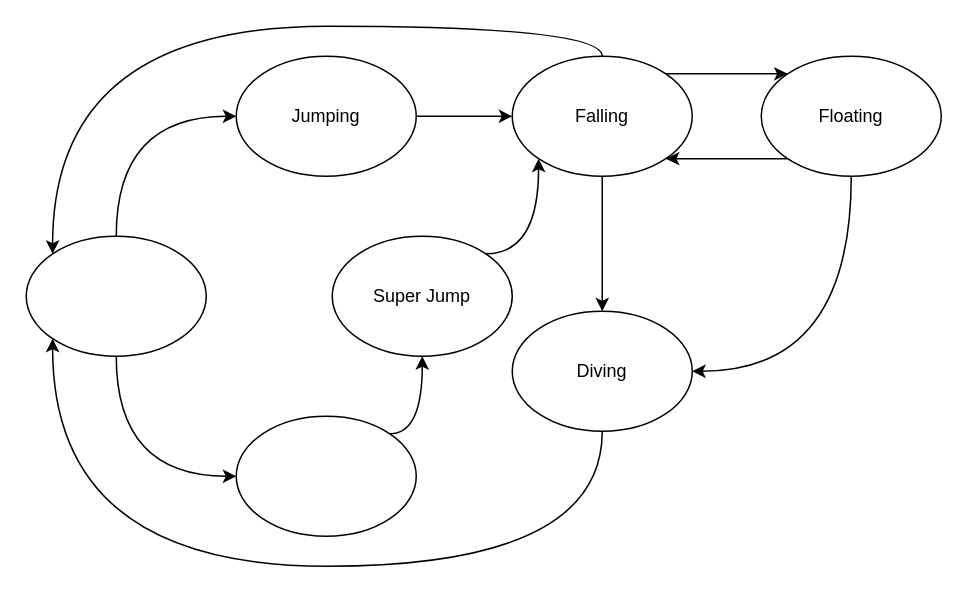
This 968x593 diagram has some shape labels left out. The centre of each missing label's shape, as x and y in pixels:
Ducking: the point at 325,475
Standing: the point at 115,295
